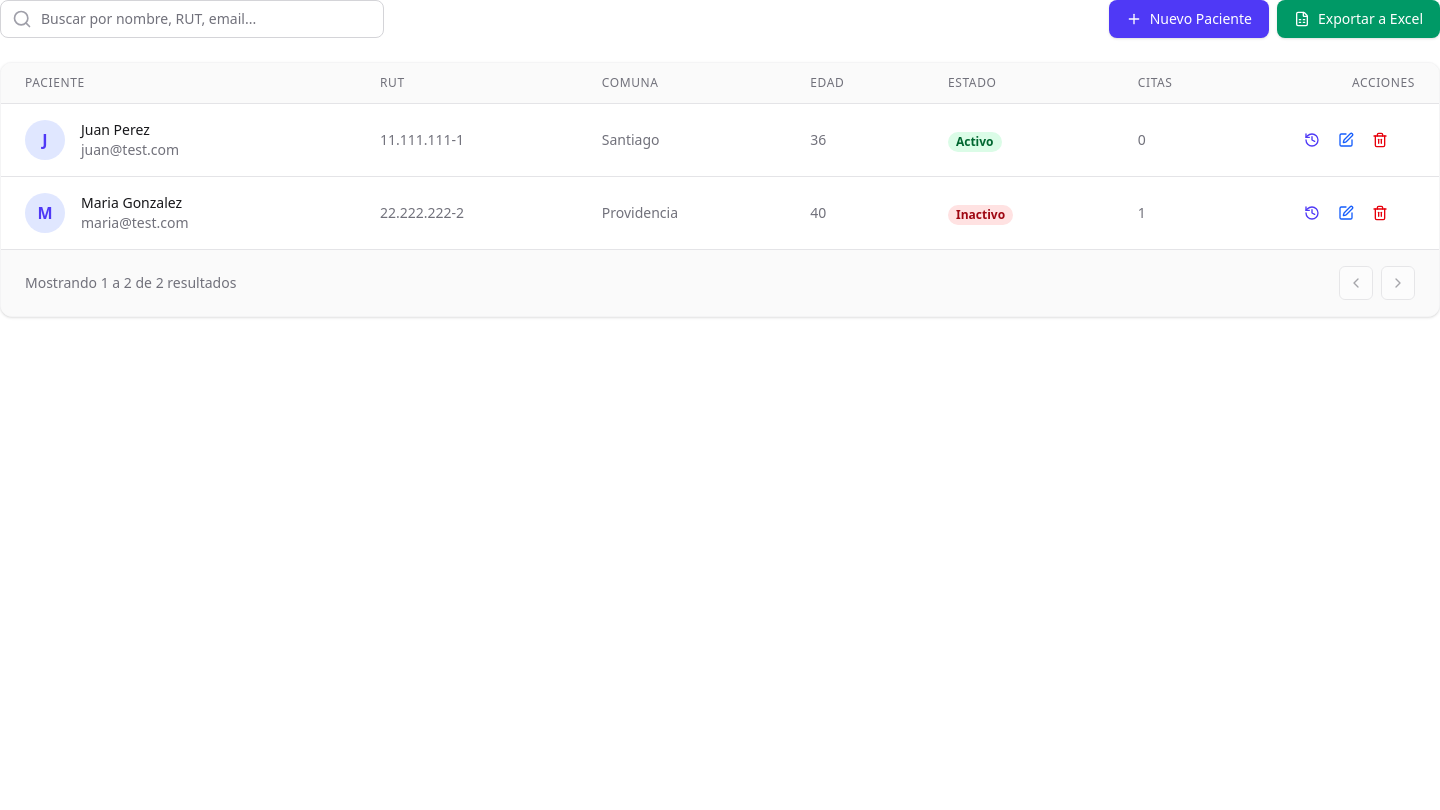
Test: PatientsTable Component › opens delete modal
Click the button titled "Eliminar" in the row of "Juan Perez". click: (1380, 140)
box: [1367,127,1393,153]
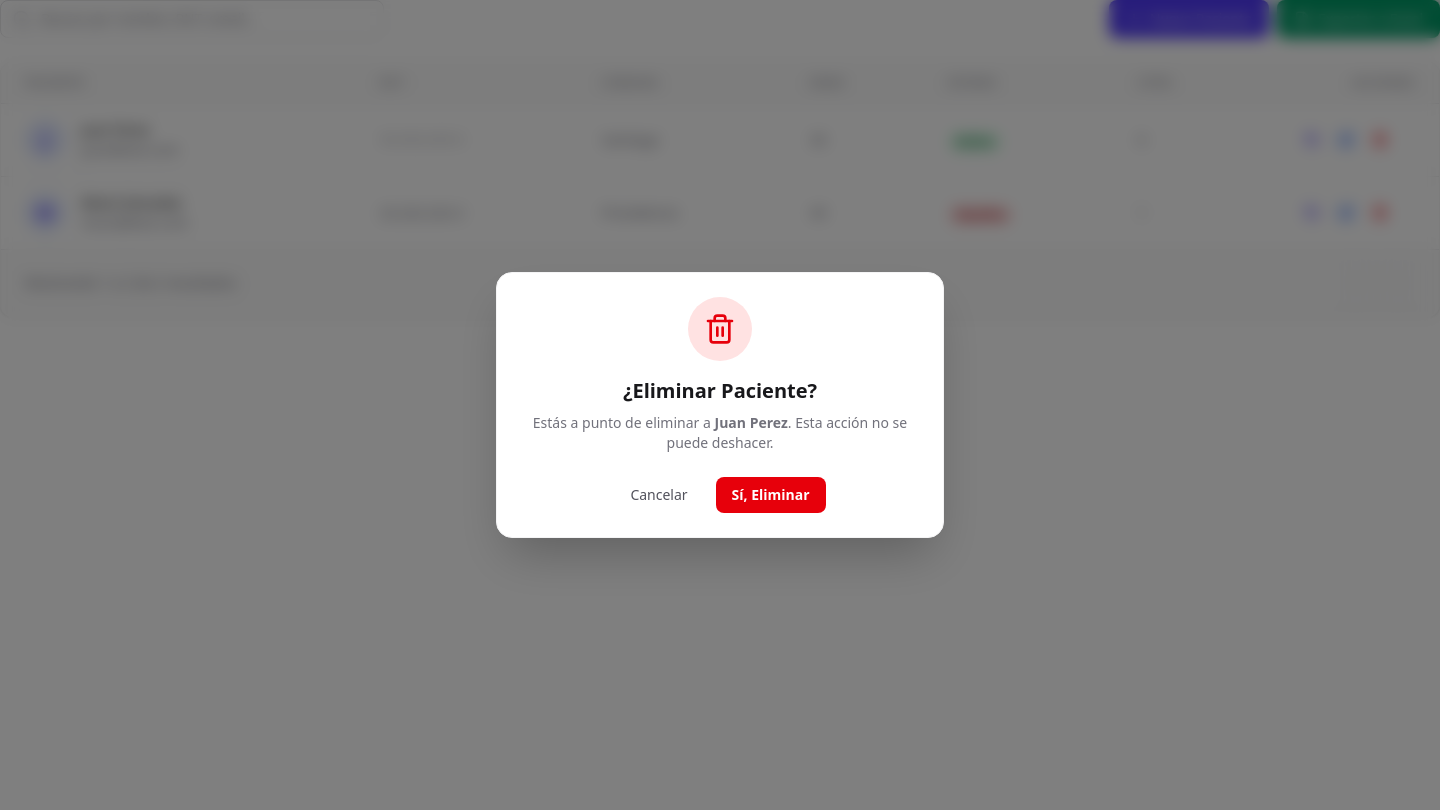
Now the heading "¿Eliminar Paciente?" is shown, box [623,377,817,404]
